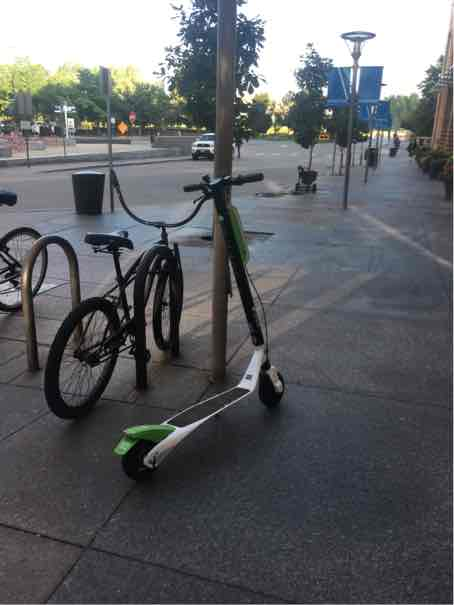scooter: (103, 157, 288, 482)
